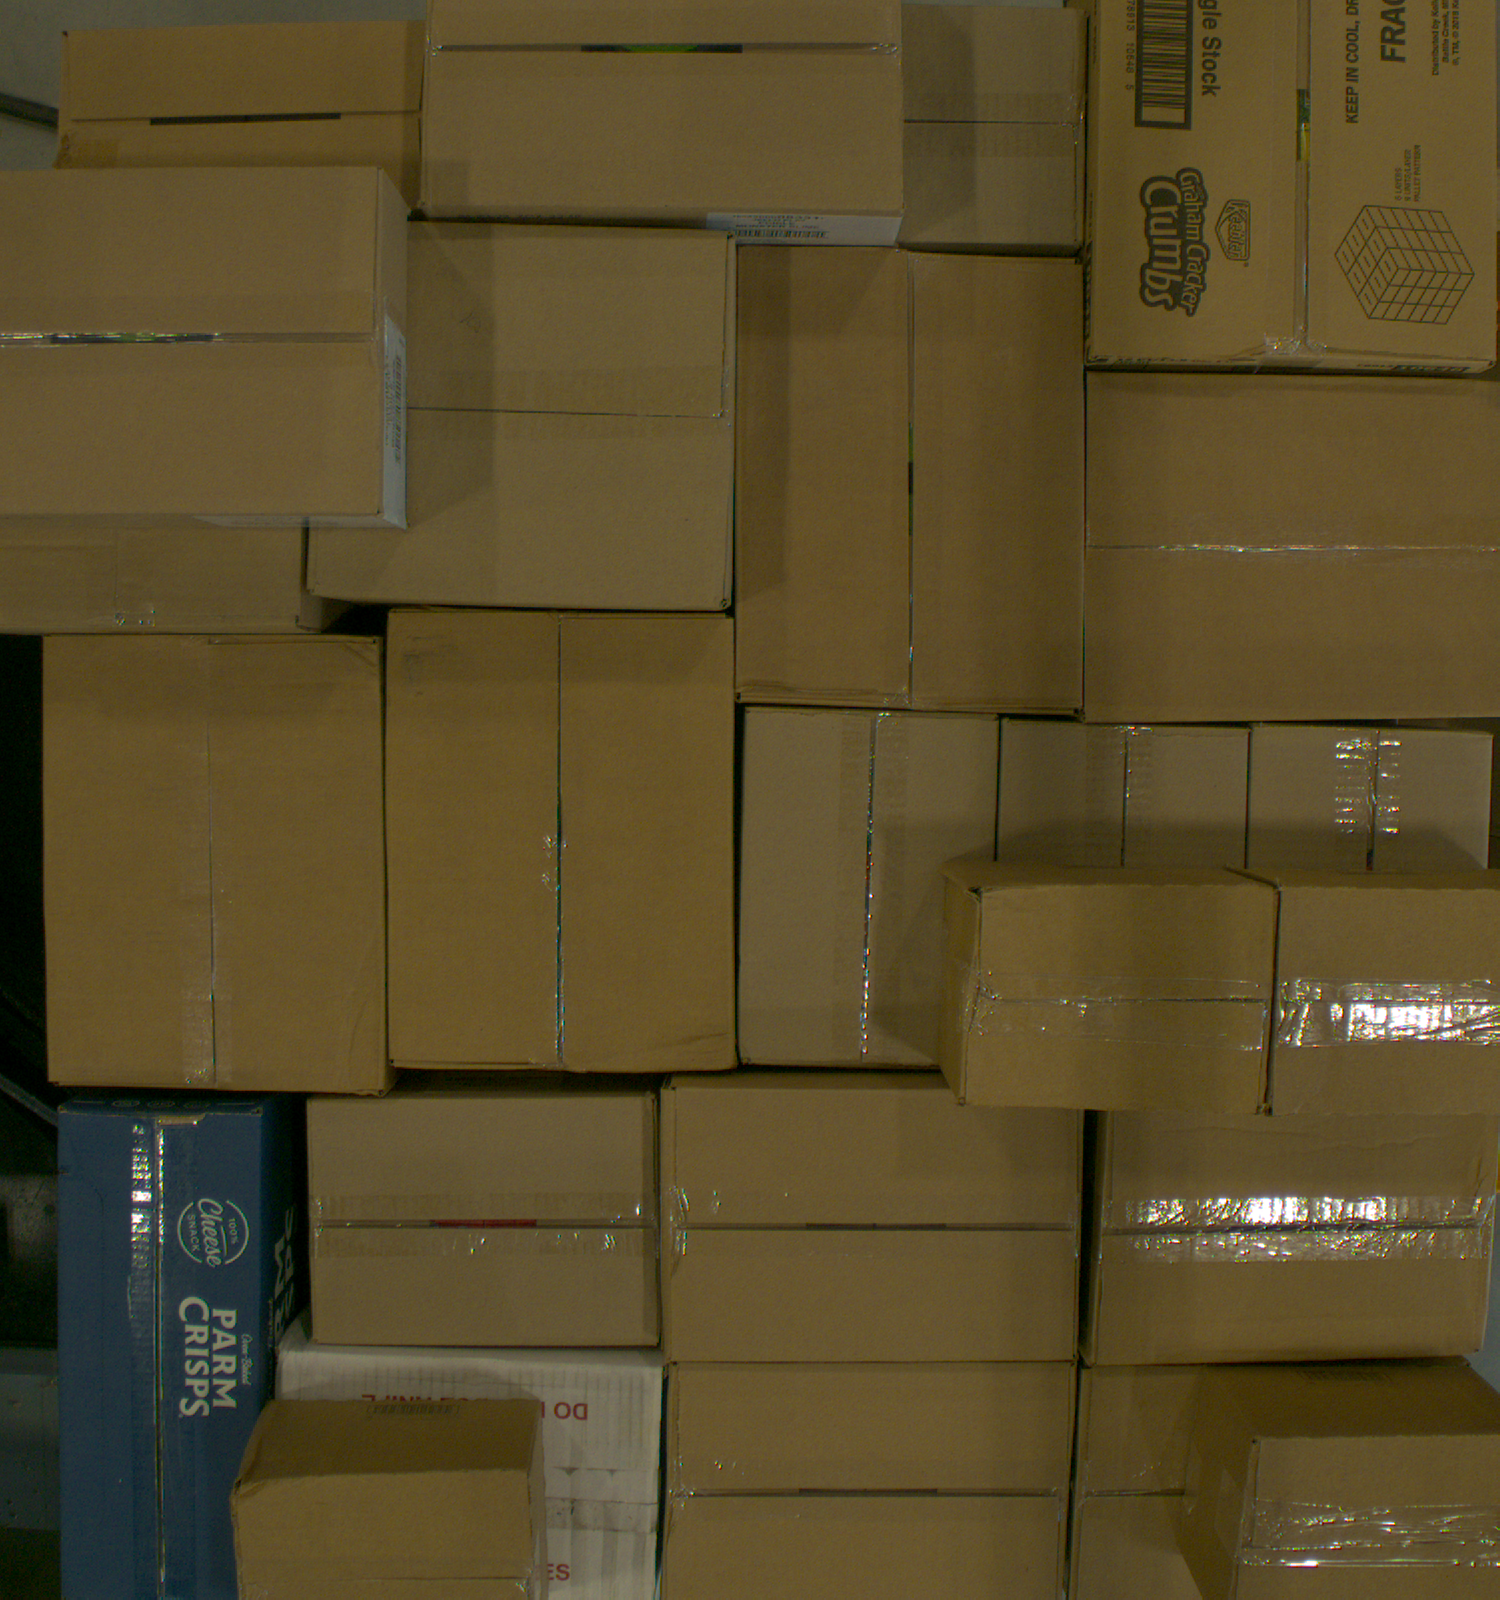box top: (309, 223, 734, 610), (737, 244, 1086, 718), (388, 612, 736, 1074), (47, 633, 388, 1095), (1093, 1, 1494, 368), (1086, 369, 1500, 720), (1, 169, 382, 515), (663, 1090, 1084, 1362), (1090, 1112, 1500, 1365), (422, 1, 906, 211), (59, 1112, 264, 1600), (663, 1363, 1078, 1600), (276, 1350, 664, 1600), (739, 708, 1000, 1069), (309, 1093, 660, 1343), (959, 887, 1277, 1115), (56, 21, 427, 168), (1272, 884, 1500, 1119), (1232, 1420, 1500, 1600), (899, 4, 1088, 247), (230, 1470, 534, 1600), (1000, 719, 1249, 868), (1248, 723, 1492, 868), (1069, 1367, 1205, 1600), (1, 529, 303, 629)
